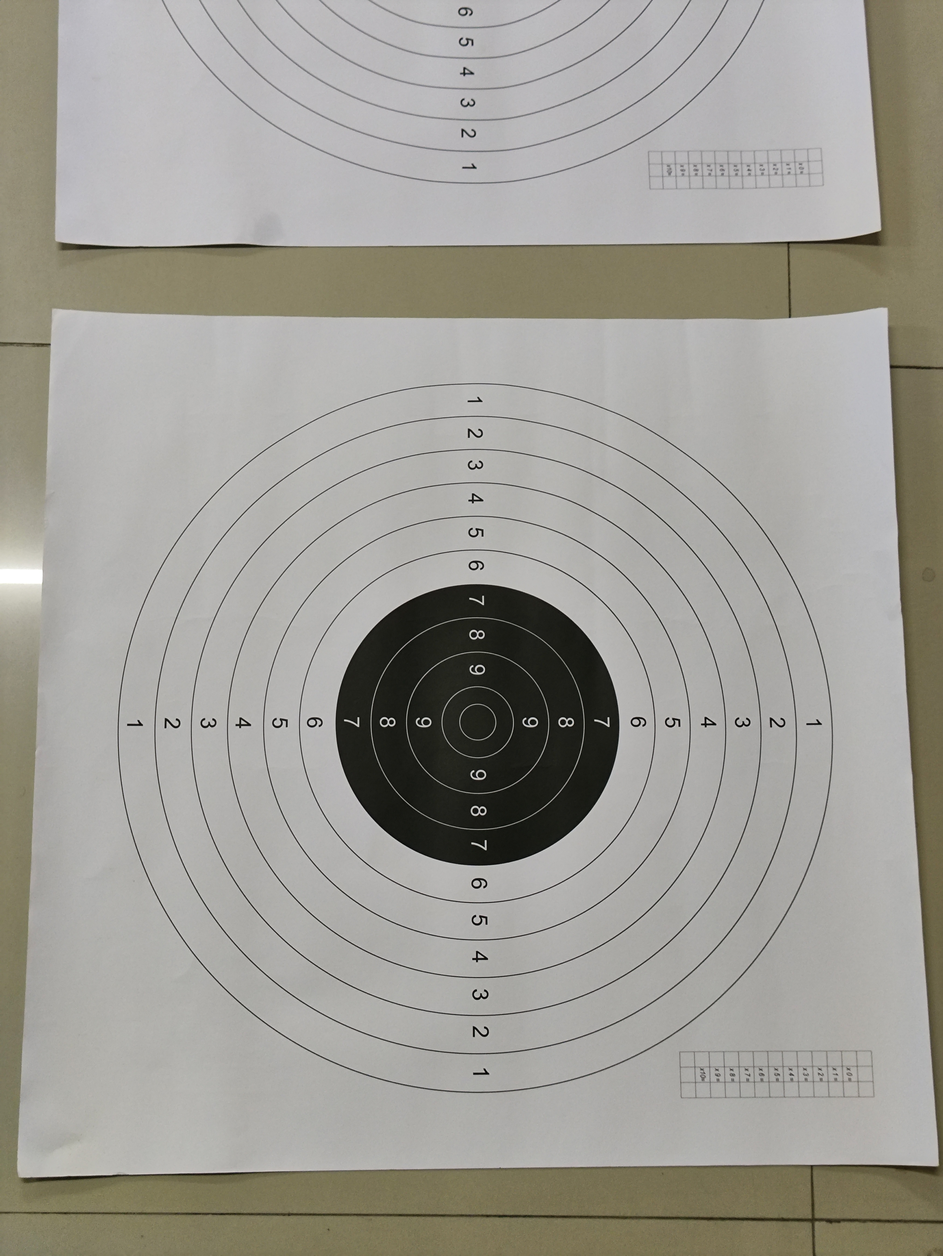target: (100, 350, 858, 1114)
